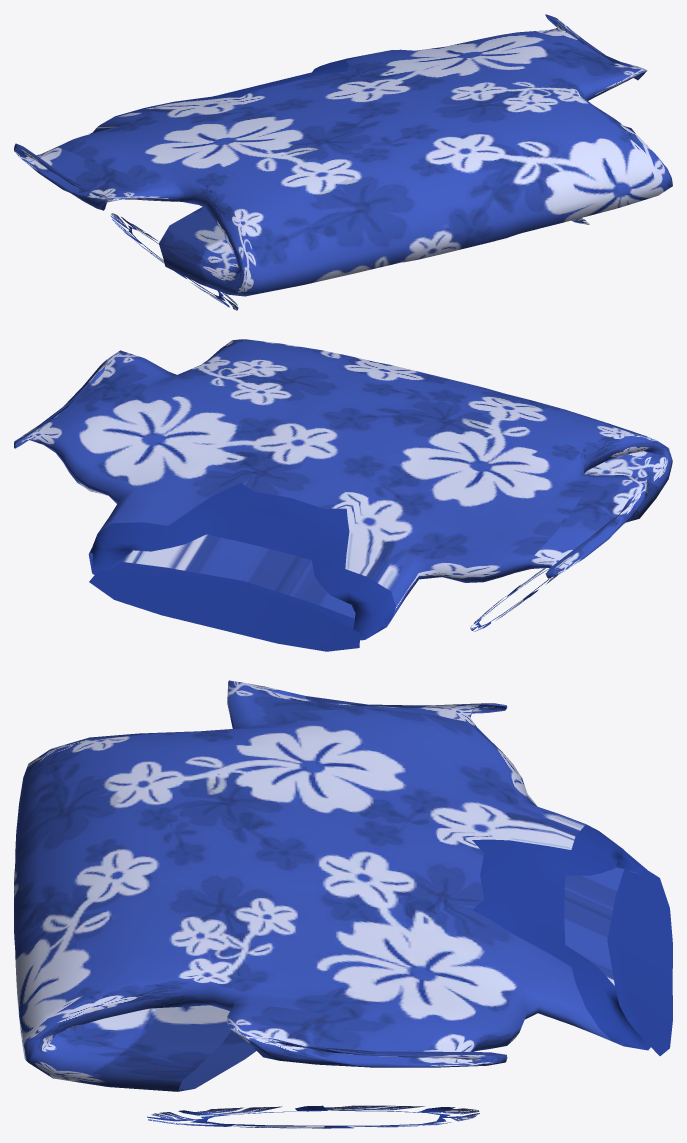
The model's file is ShirtDrop.fbx.
The picture shows the model from 3 angles, top to bottom: view 1: azimuth 30°, elevation 25°; view 2: azimuth 150°, elevation 25°; view 3: azimuth 270°, elevation 25°; orthographic projection. The views are drawn at different scales.
Parts seen in each view (by area): view 1: Shirt; view 2: Shirt; view 3: Shirt.
Boxes of the visible parts, bbox=[...] form: Shirt: bbox=[14, 14, 672, 310]; Shirt: bbox=[14, 339, 672, 651]; Shirt: bbox=[14, 680, 672, 1128].
Size of the model in its own units: 1.08 by 0.2412 by 0.8333.
